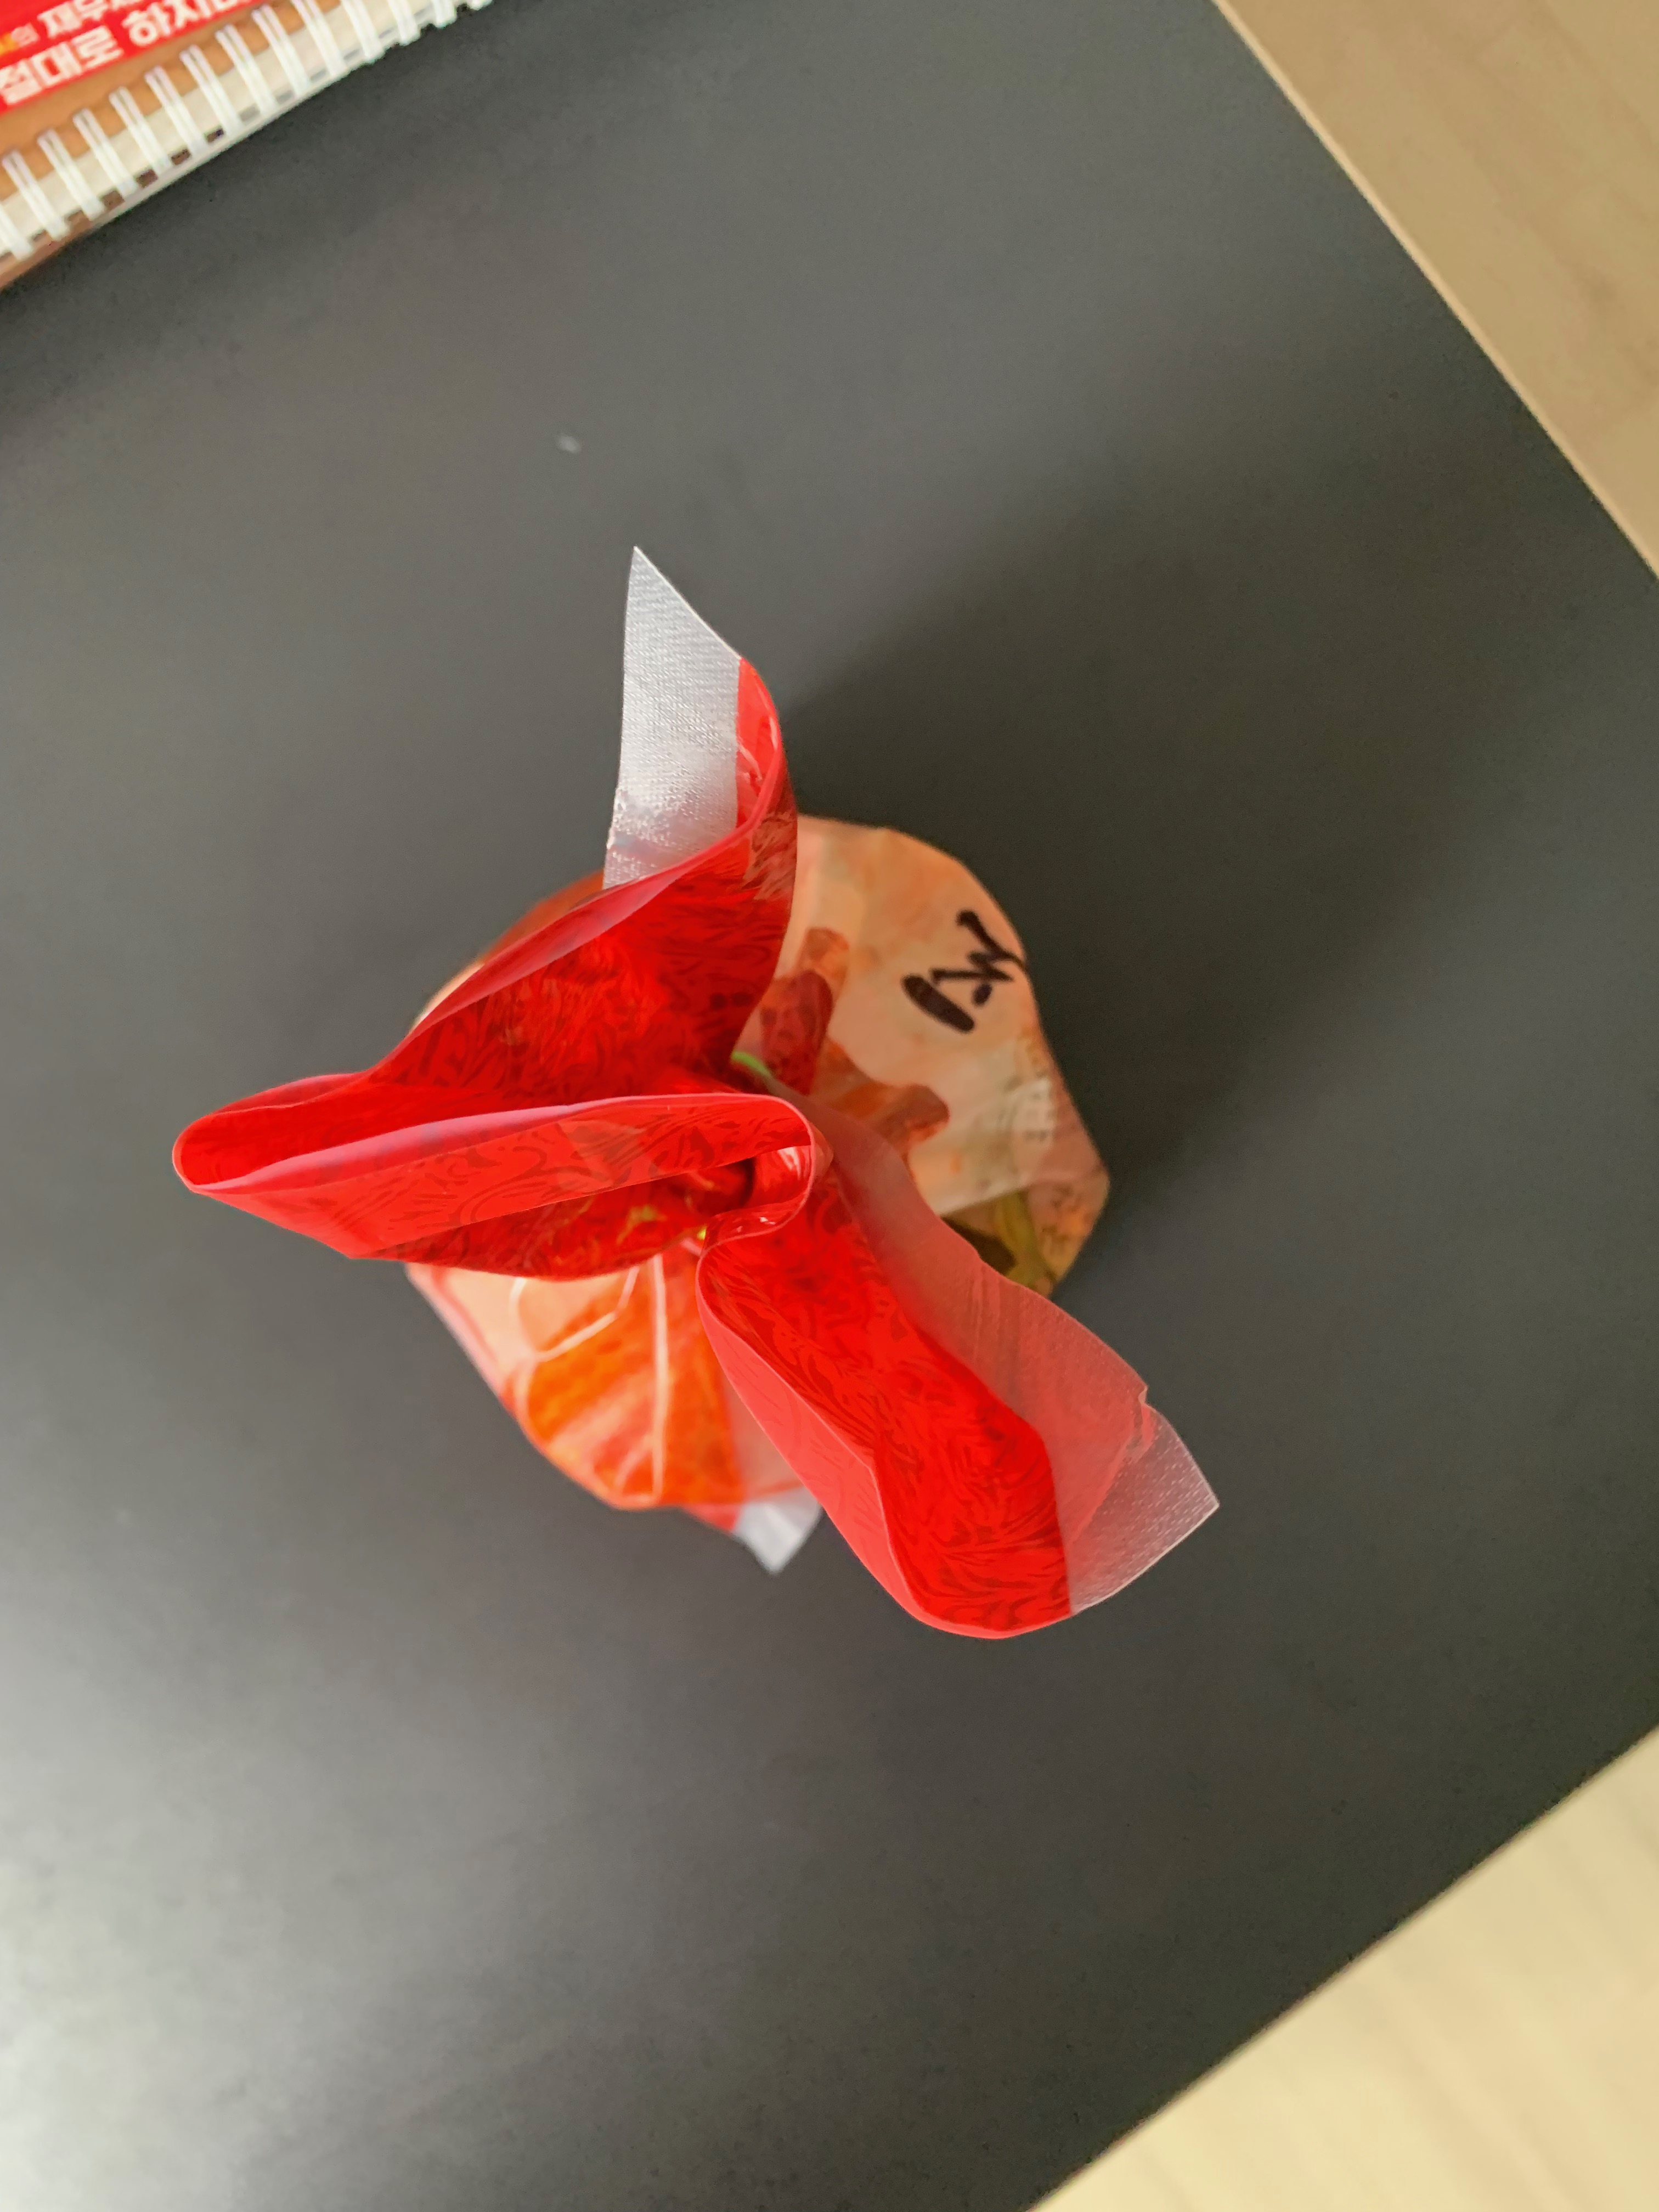kimchi: (171, 667, 1112, 1641)
